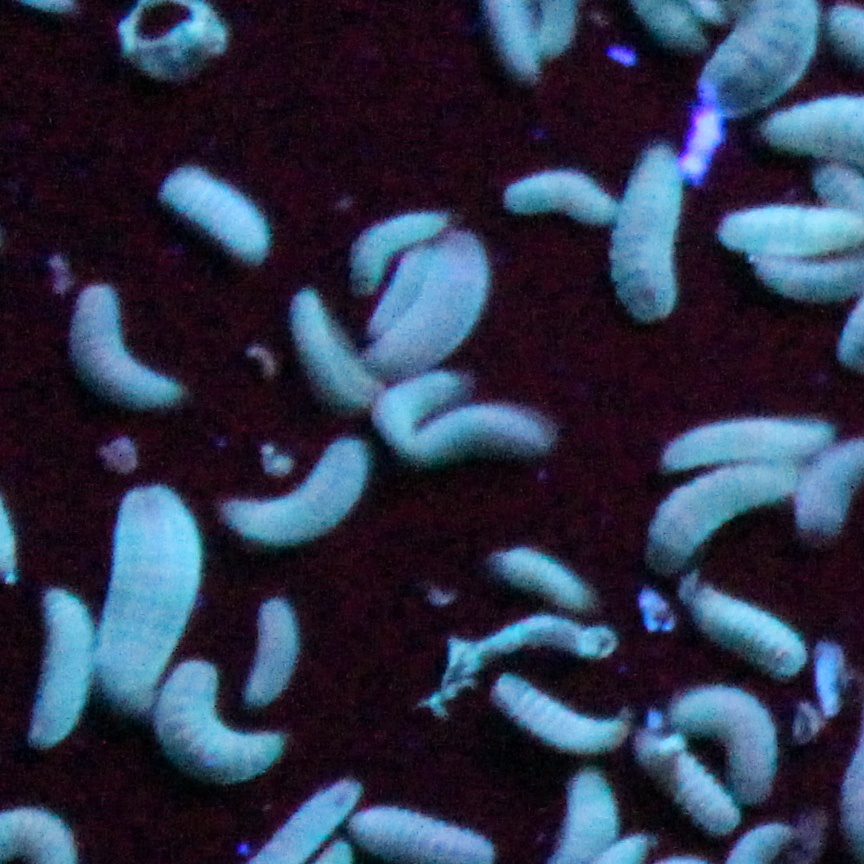larve: (93, 490, 203, 709), (364, 232, 496, 387), (229, 441, 370, 551), (648, 461, 800, 558), (64, 283, 183, 406), (158, 660, 282, 778), (667, 677, 780, 806), (609, 138, 690, 316), (490, 664, 635, 761), (287, 287, 390, 416), (167, 151, 270, 261), (680, 587, 803, 677), (29, 587, 96, 751), (393, 403, 558, 461), (664, 416, 835, 470), (490, 541, 596, 616), (351, 212, 451, 287), (496, 170, 606, 225), (243, 602, 302, 704)
